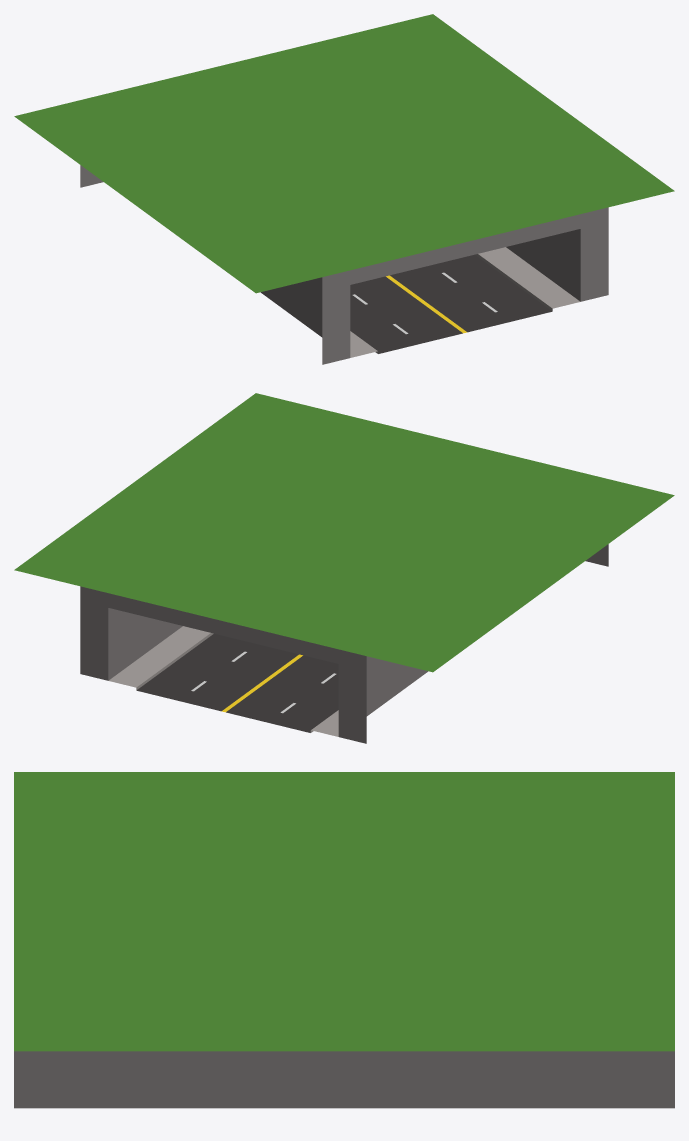
File: tiles-nb_tile-mainroad-tunnel-nb.fbx
The picture shows the model from 3 angles, top to bottom: view 1: azimuth 30°, elevation 25°; view 2: azimuth 150°, elevation 25°; view 3: azimuth 270°, elevation 25°; orthographic projection. The views are drawn at different scales.
Parts seen in each view (by area): view 1: tiles_nb_tile_mainroad_tunnel_nb; view 2: tiles_nb_tile_mainroad_tunnel_nb; view 3: tiles_nb_tile_mainroad_tunnel_nb.
Part boxes in pixels (x1,y1,x2,y2): tiles_nb_tile_mainroad_tunnel_nb: (14,14,674,364); tiles_nb_tile_mainroad_tunnel_nb: (14,393,674,743); tiles_nb_tile_mainroad_tunnel_nb: (14,772,674,1108).
Bounding box in the file's own units: 200 × 41.33 × 200.
